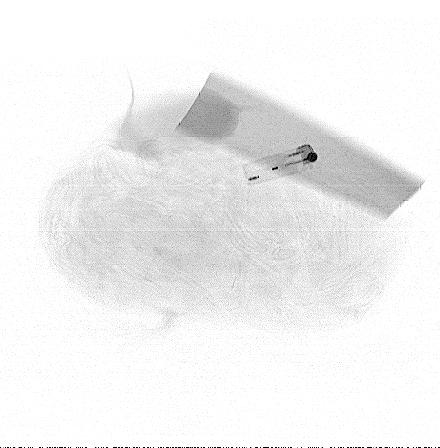Lighter: (243, 144, 319, 186)
